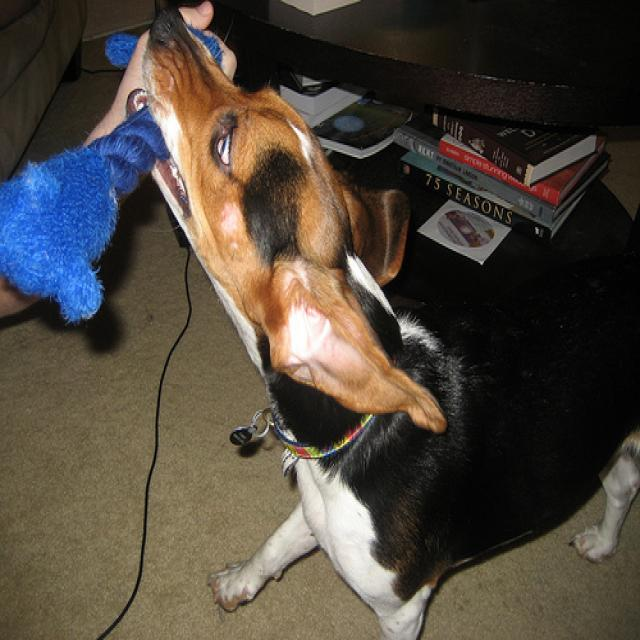dog-beagle: (119, 2, 637, 637)
